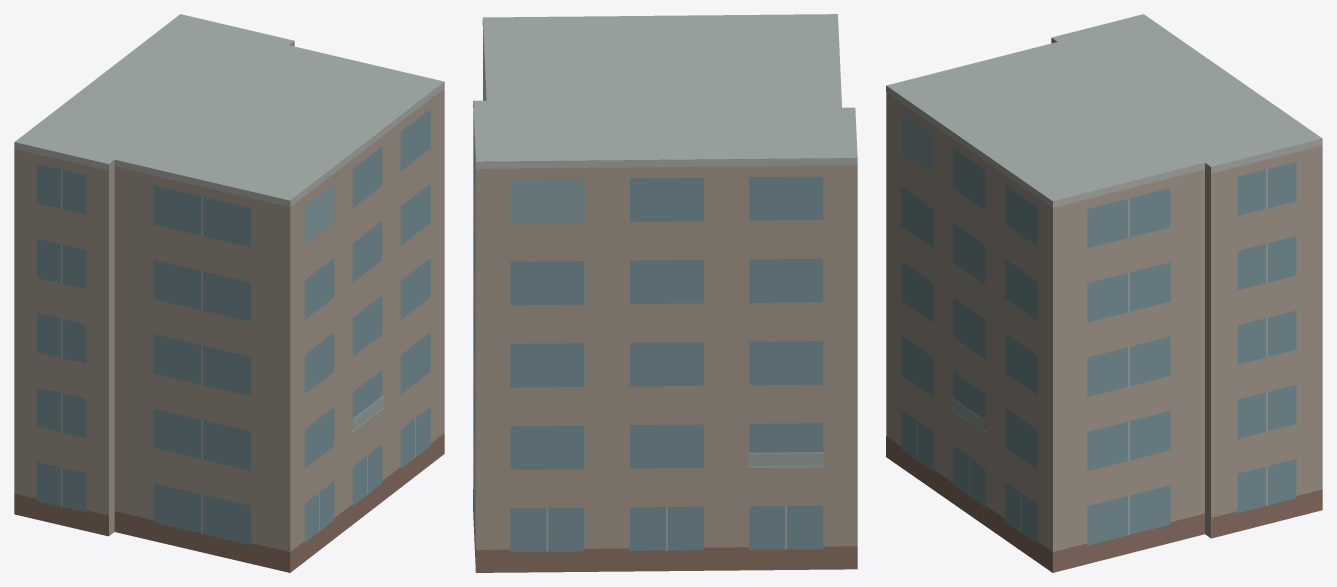
Rendered from survey-upis-32773908.glb.
3 renders of one model, left to right at view 1: azimuth 30°, elevation 25°; view 2: azimuth 150°, elevation 25°; view 3: azimuth 270°, elevation 25°, orthographic. The views are drawn at different scales.
Visible parts, largest first — view 1: survey-upis-32773908.tmp; view 2: survey-upis-32773908.tmp; view 3: survey-upis-32773908.tmp.
Boxes of the visible parts, x1,y1,x2,y2 form: survey-upis-32773908.tmp: [14, 14, 444, 572]; survey-upis-32773908.tmp: [473, 14, 857, 572]; survey-upis-32773908.tmp: [886, 14, 1322, 572].
Bounding box in the file's own units: 14.77 × 13.65 × 14.54.
